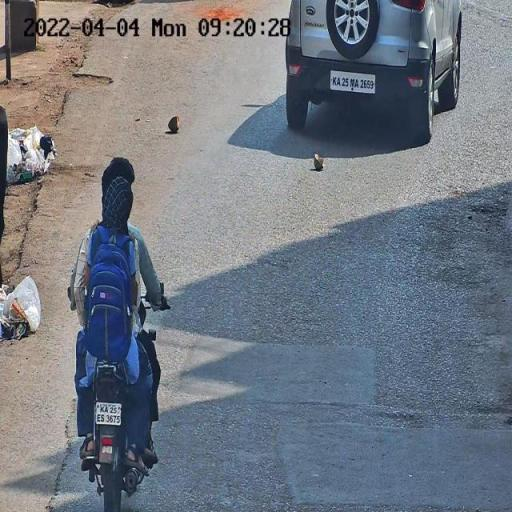tripple riding: (66, 156, 172, 360)
